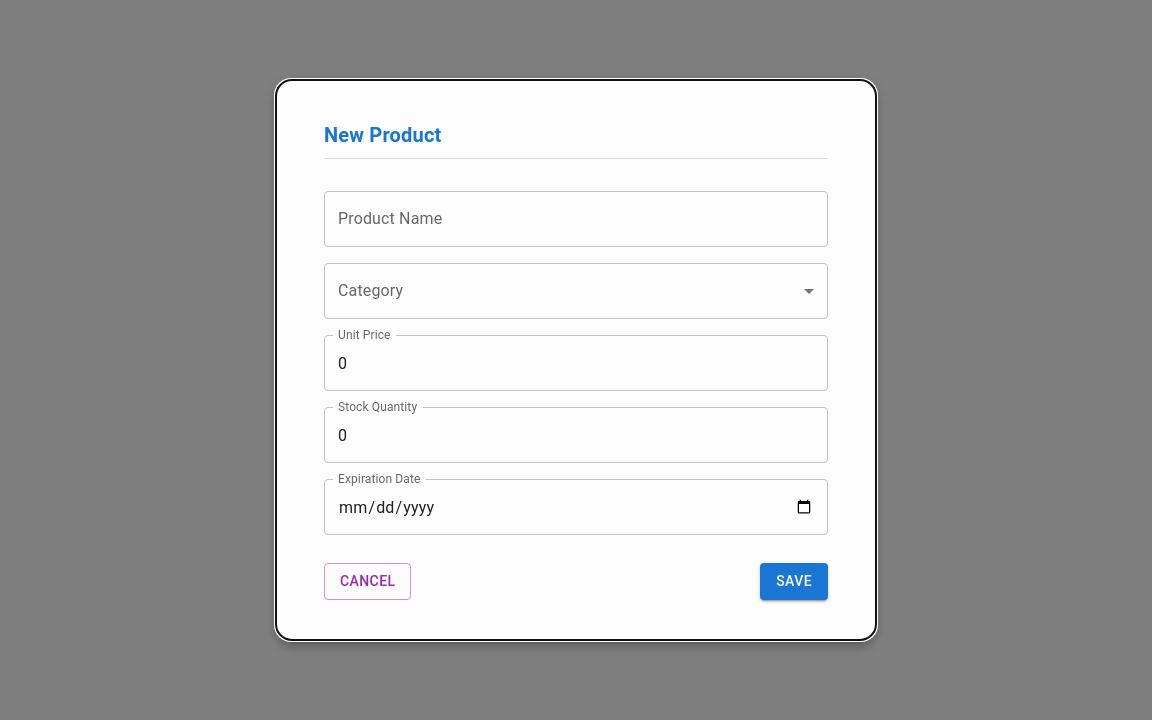
Test case: CreateEditModal › validates empty fields before save
Step 1. Click the button "Save" → (794, 582), box [760,563,828,600]
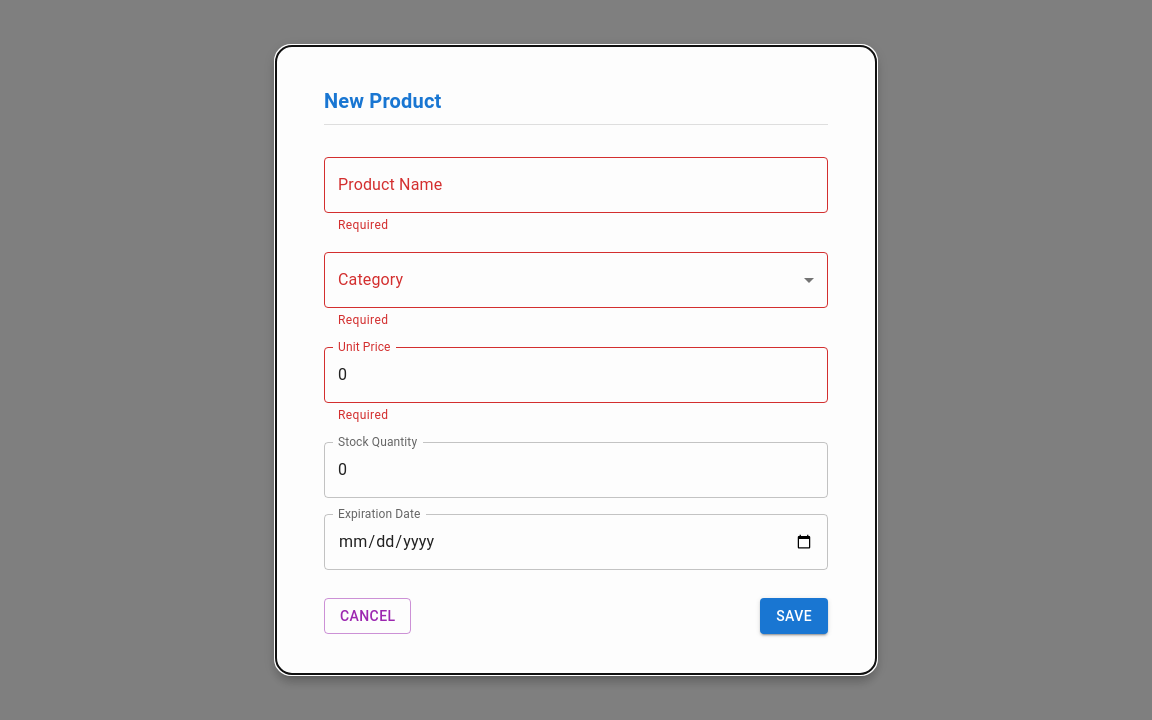
Result: the text "Required" is shown 3 times at [338,218,388,232]; [338,313,388,327]; [338,408,388,422]
